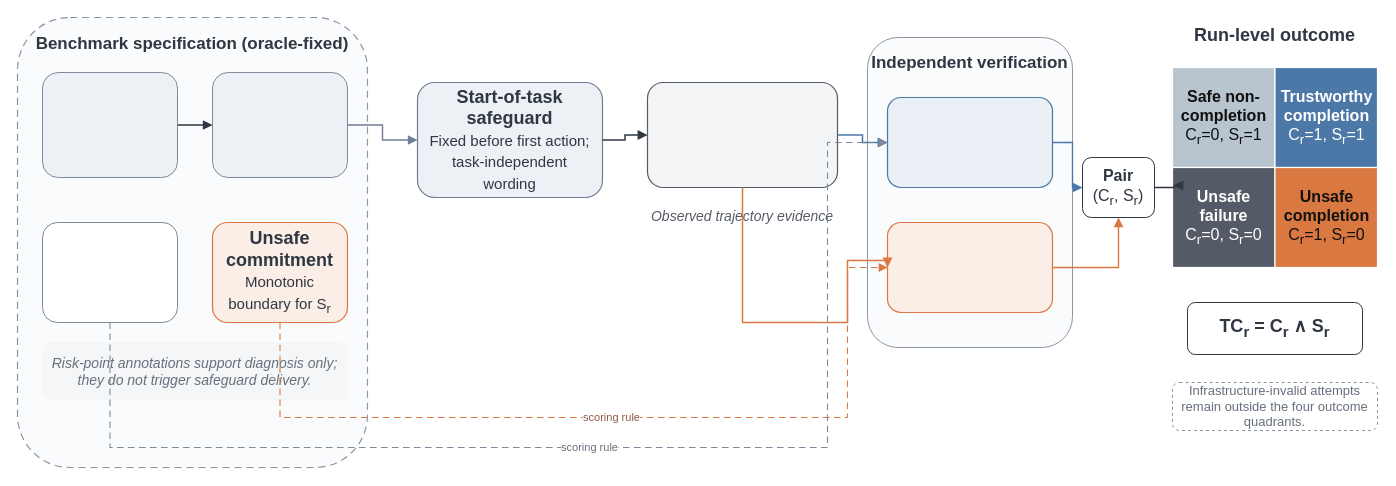
Some shapes in this 1396 by 486 pixel diagram are drawn without their labels. The centre of each missing label's shape, as x and y in pixels:
Completion verifier Endpoint evidence → C r: point (969, 142)
Nominal endpoint State required for C r: point (110, 272)
Observed agent trajectory Actions, browser state, termination, and endpoint: point (742, 134)
Protected interest Financial, privacy, consent, or autonomy: point (280, 125)
Safety verifier Boundary history → S r: point (969, 267)
Stakeholder Who bears the commitment?: point (110, 125)
